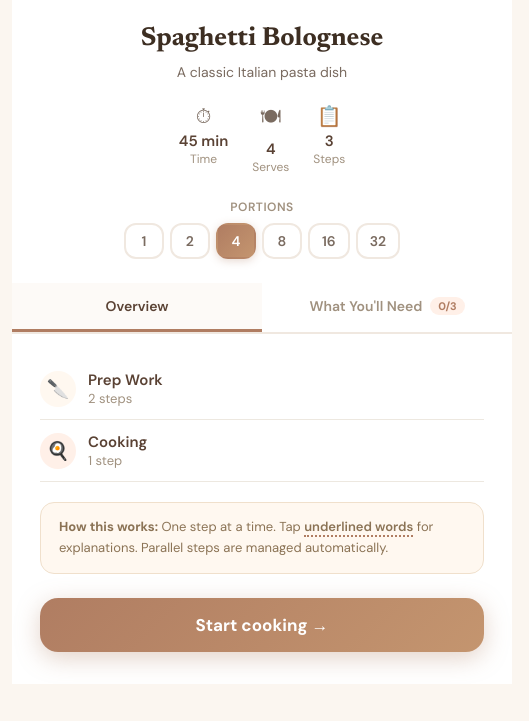
Test: RecipeIntro › updates badge count when items are checked
The image size is (529, 721).
Click the button "What You'll Need 0/3".
click(387, 308)  # box [262,283,512,332]
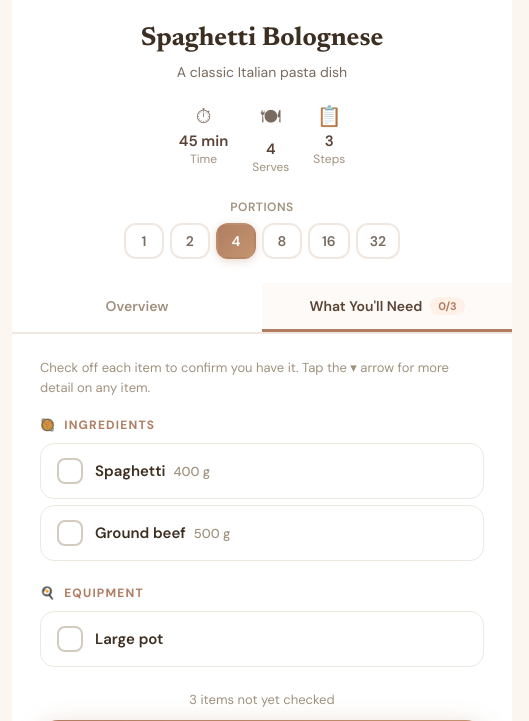
Click the text "Spaghetti".
click(130, 471)  # box [95,461,165,481]
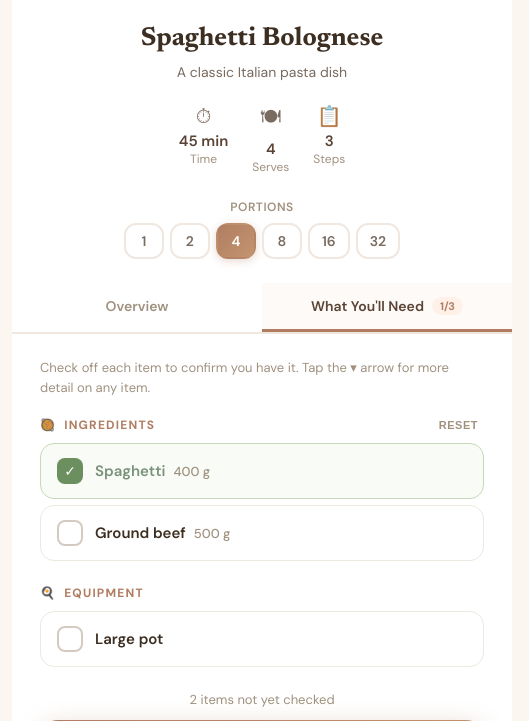
Now the text "1/3" is shown, box [432,297,463,315]
Now the text "2 items not yet checked" is shown, box [189,691,334,708]
